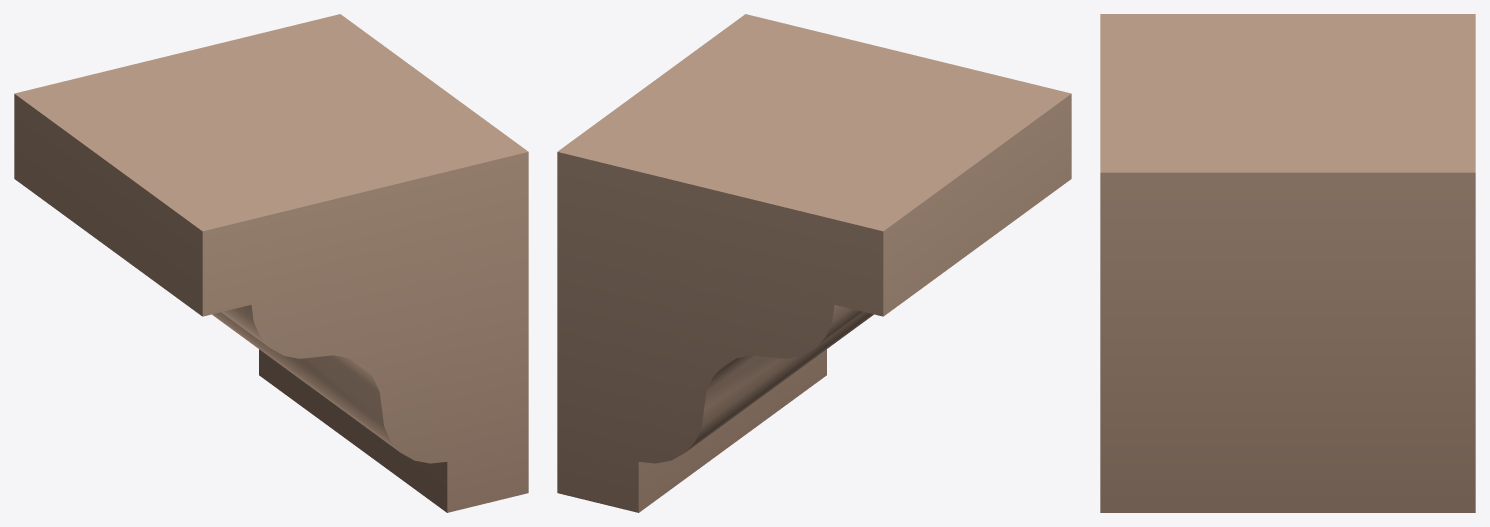
The model's file is corner-basic-d.glb.
3 renders of one model, left to right at view 1: azimuth 30°, elevation 25°; view 2: azimuth 150°, elevation 25°; view 3: azimuth 270°, elevation 25°, orthographic.
Visible parts, largest first — view 1: corner-basic-d; view 2: corner-basic-d; view 3: corner-basic-d.
Boxes of the visible parts, left/top/right/bottom form: corner-basic-d: left=14, top=14, right=528, bottom=512; corner-basic-d: left=557, top=14, right=1071, bottom=512; corner-basic-d: left=1100, top=14, right=1475, bottom=512.
Size of the model in its own units: 0.2 by 0.2 by 0.2.
